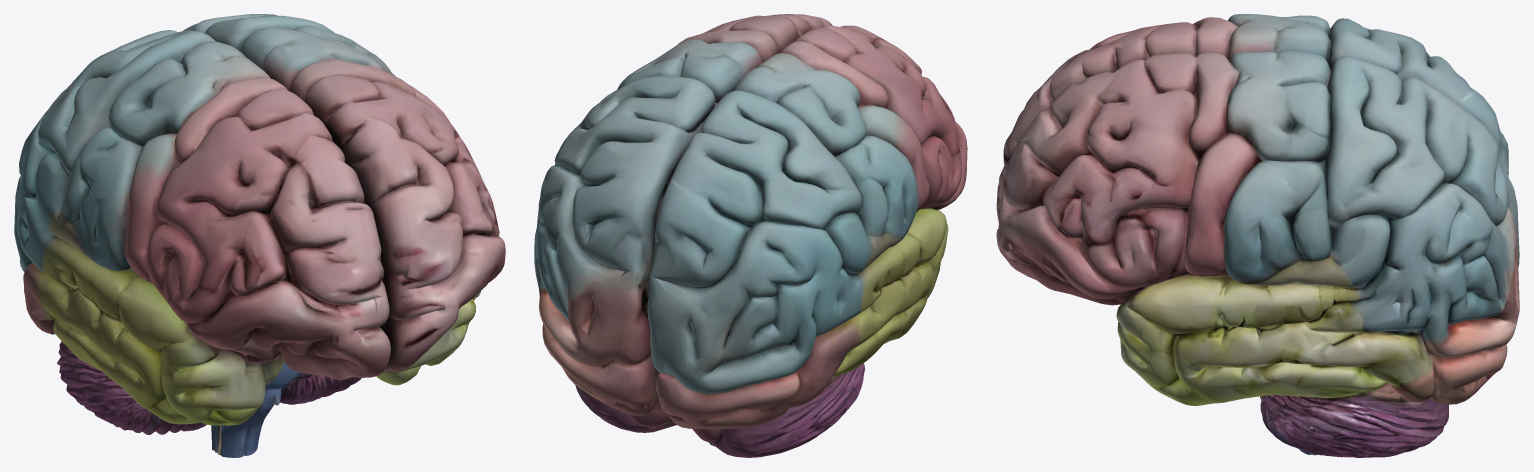
File: brain_web.glb
3 views of the same model, side by side, from view 1: azimuth 30°, elevation 25°; view 2: azimuth 150°, elevation 25°; view 3: azimuth 270°, elevation 25° (orthographic). The views are drawn at different scales.
Parts seen in each view (by area): view 1: model; view 2: model; view 3: model.
Part boxes in pixels (box(x1,y1,x2,y2)): model: box(14, 14, 505, 457); model: box(534, 14, 967, 457); model: box(996, 14, 1519, 457).
Bounding box in the file's own units: 1.38 × 1.58 × 1.85.
1 material, 1 textured.
